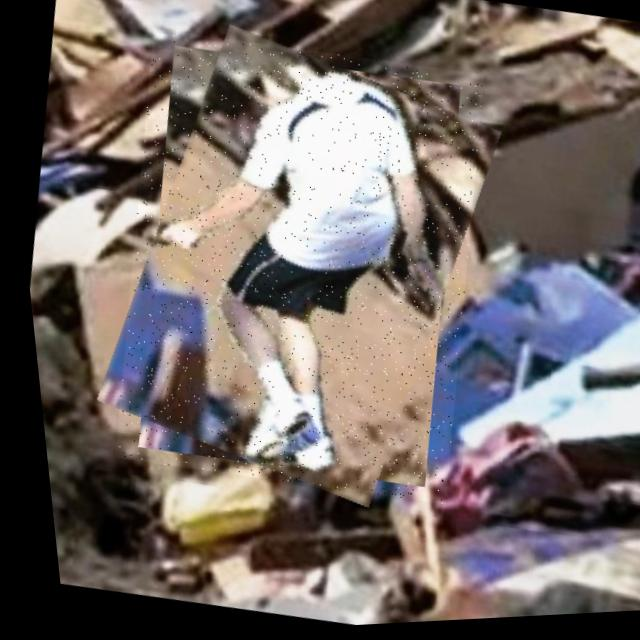Person in Rubble: (70, 17, 517, 522)
